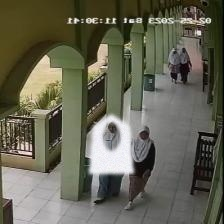Mukena: (89, 114, 133, 173)
